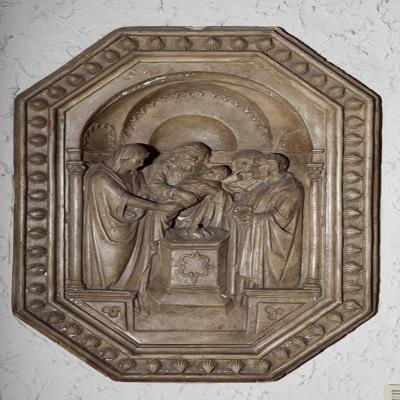sculpture: (8, 26, 383, 400)
